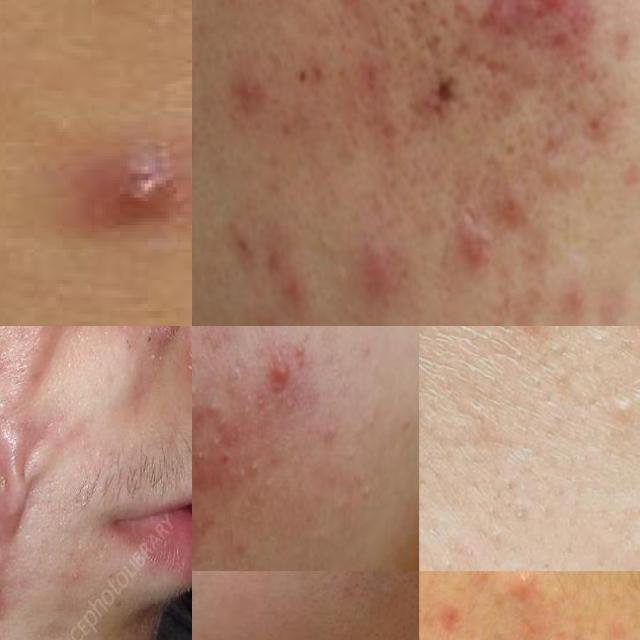acne_scars: (401, 70, 471, 126), (464, 34, 524, 90)
comedone: (512, 326, 571, 355), (349, 471, 382, 506), (613, 380, 640, 408), (318, 417, 338, 446), (203, 396, 228, 419), (236, 491, 257, 511), (460, 627, 487, 640), (262, 471, 274, 497), (208, 428, 223, 448), (249, 457, 262, 477), (192, 395, 203, 415)
keloid: (0, 407, 39, 541), (8, 326, 83, 395)
papule: (358, 234, 416, 318), (448, 211, 499, 291), (255, 350, 303, 400), (280, 257, 321, 312), (518, 0, 588, 24), (192, 330, 207, 362), (419, 628, 426, 640)
pustule: (230, 58, 276, 131)
